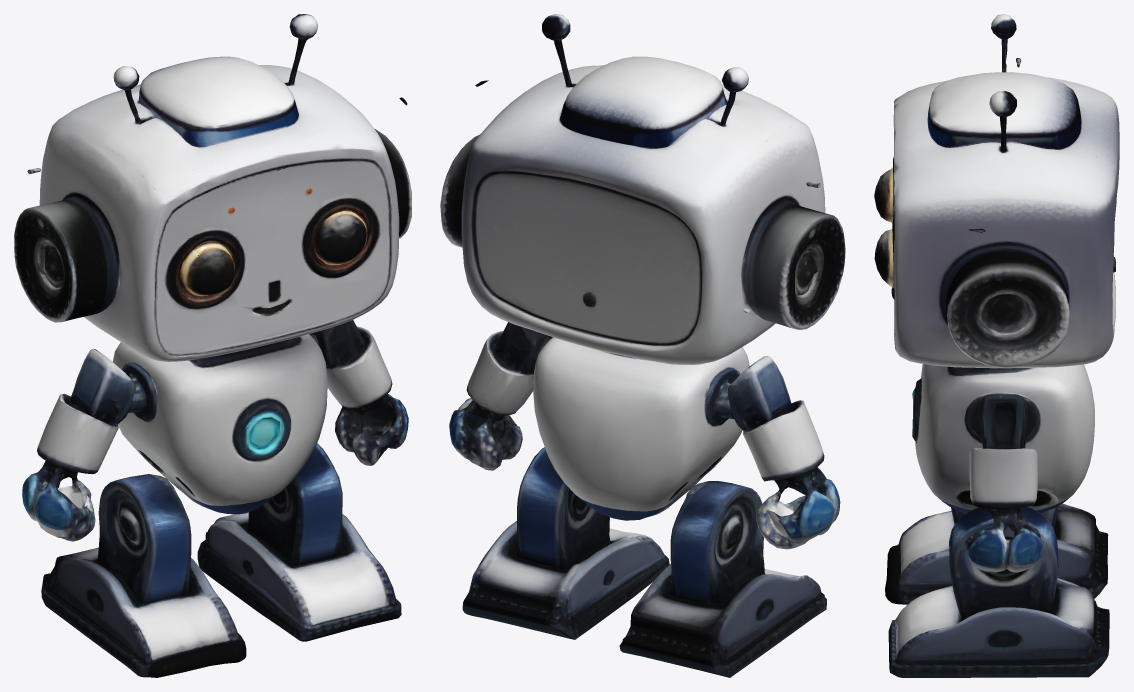
The model's file is crobot.glb.
3 views of the same model, side by side, from view 1: azimuth 30°, elevation 25°; view 2: azimuth 150°, elevation 25°; view 3: azimuth 270°, elevation 25° (orthographic). The views are drawn at different scales.
Visible parts, largest first — view 1: world_0; view 2: world_0; view 3: world_0.
Boxes of the visible parts, x1,y1,x2,y2 form: world_0: (14,14,411,677); world_0: (440,14,845,677); world_0: (874,14,1119,677).
Bounding box in the file's own units: 0.669 × 0.9806 × 0.3843.
1 material, 1 textured.
